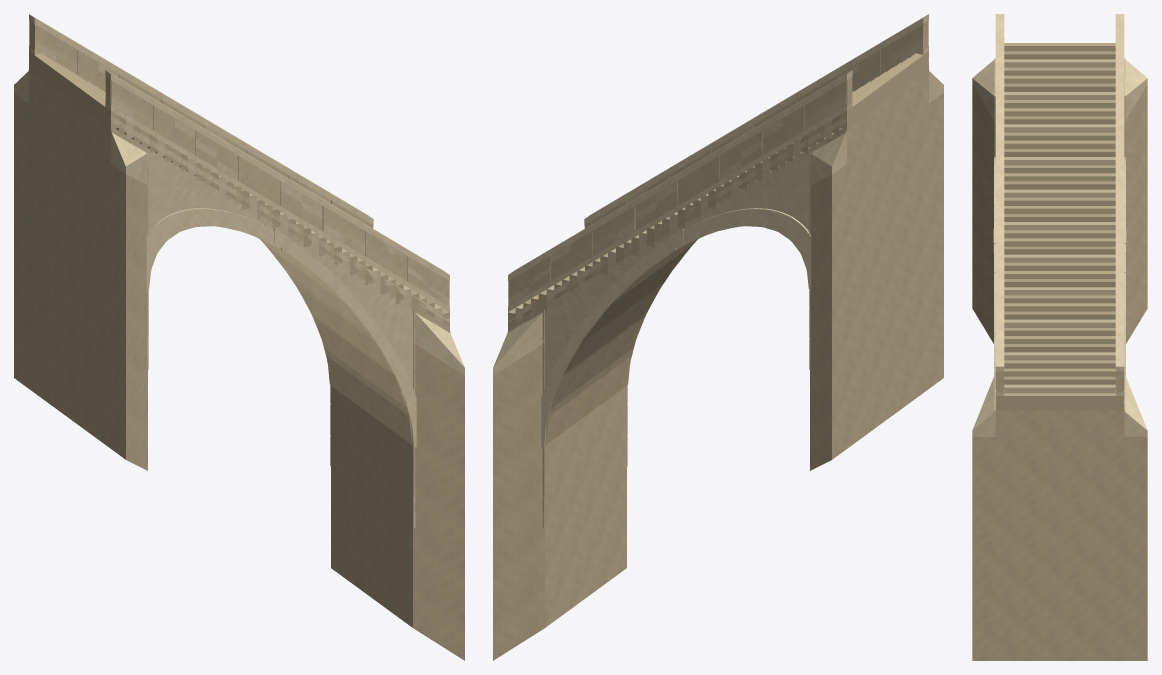
File: verona_bridge_descent.glb
3 renders of one model, left to right at view 1: azimuth 30°, elevation 25°; view 2: azimuth 150°, elevation 25°; view 3: azimuth 270°, elevation 25°, orthographic. The views are drawn at different scales.
Visible parts, largest first — view 1: Travertine.001, Limestone_trim.001, Limewash.001, Travertine.003, Limestone_trim.002, Travertine.002, Limewash.002, Paving_0.001, Paving_3.001, Paving_2.001, Paving_1.001; view 2: Travertine.001, Limestone_trim.001, Limewash.001, Limestone_trim.002, Travertine.003, Travertine.002, Limewash.002, Paving_0.001, Paving_3.001, Paving_2.001, Paving_1.001; view 3: Travertine.001, Paving_3.001, Paving_2.001, Paving_1.001, Paving_0.001, Limestone_trim.001, Limestone_trim.002, Travertine.002.
Boxes of the visible parts, x1=… form: Travertine.001: x1=14, y1=20, x2=464, y2=660; Limestone_trim.001: x1=14, y1=14, x2=464, y2=527; Limewash.001: x1=35, y1=42, x2=449, y2=387; Travertine.003: x1=197, y1=226, x2=412, y2=444; Limestone_trim.002: x1=29, y1=14, x2=449, y2=527; Travertine.002: x1=34, y1=25, x2=450, y2=496; Limewash.002: x1=34, y1=37, x2=412, y2=345; Paving_0.001: x1=29, y1=51, x2=426, y2=314; Paving_3.001: x1=64, y1=67, x2=449, y2=327; Paving_2.001: x1=57, y1=63, x2=442, y2=322; Paving_1.001: x1=49, y1=58, x2=434, y2=317; Travertine.001: x1=493, y1=20, x2=943, y2=660; Limestone_trim.001: x1=493, y1=14, x2=943, y2=527; Limewash.001: x1=508, y1=42, x2=922, y2=386; Limestone_trim.002: x1=508, y1=14, x2=928, y2=527; Travertine.003: x1=545, y1=226, x2=760, y2=445; Travertine.002: x1=507, y1=25, x2=923, y2=496; Limewash.002: x1=532, y1=37, x2=923, y2=387; Paving_0.001: x1=531, y1=51, x2=928, y2=316; Paving_3.001: x1=508, y1=67, x2=893, y2=327; Paving_2.001: x1=515, y1=63, x2=900, y2=322; Paving_1.001: x1=523, y1=58, x2=908, y2=321; Travertine.001: x1=972, y1=59, x2=1147, y2=660; Paving_3.001: x1=995, y1=67, x2=1124, y2=410; Paving_2.001: x1=1004, y1=59, x2=1115, y2=392; Paving_1.001: x1=1004, y1=51, x2=1115, y2=384; Paving_0.001: x1=1004, y1=43, x2=1115, y2=376; Limestone_trim.001: x1=972, y1=14, x2=1147, y2=436; Limestone_trim.002: x1=993, y1=14, x2=1126, y2=403; Travertine.002: x1=994, y1=58, x2=1125, y2=410.
Bounding box in the file's own units: 10.5 × 19.5 × 6.
7 materials, 3 textured.
